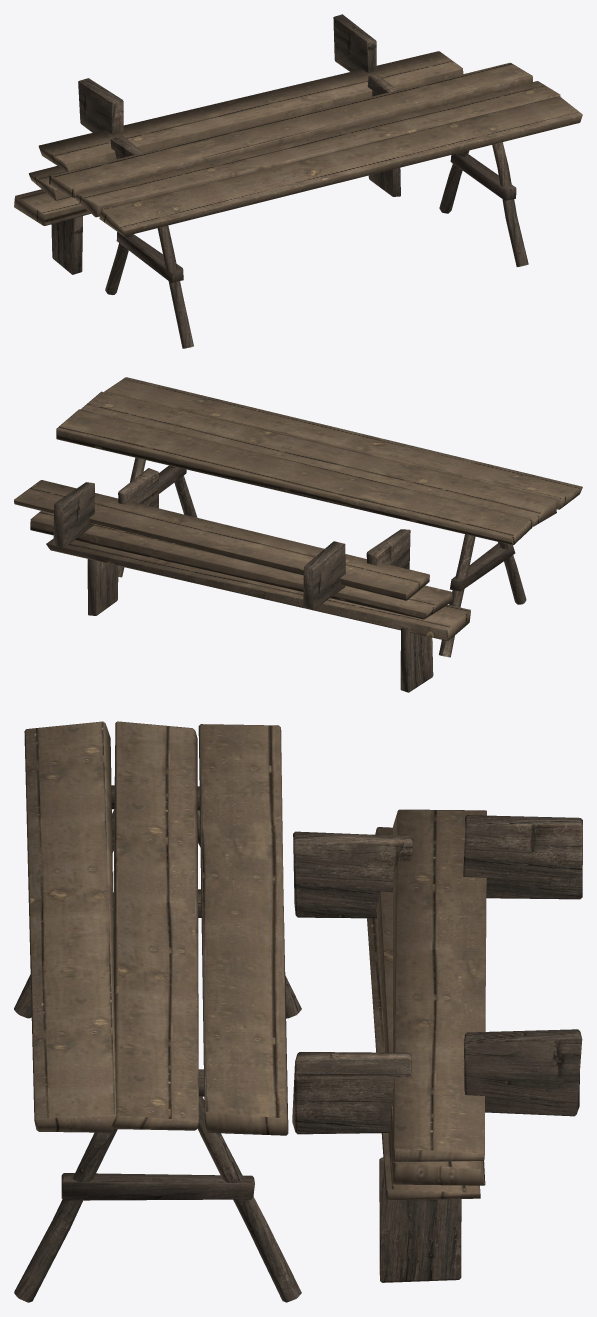
File: th_trestles.glb
3 renders of one model, top to bottom at view 1: azimuth 30°, elevation 25°; view 2: azimuth 150°, elevation 25°; view 3: azimuth 270°, elevation 25°, orthographic. The views are drawn at different scales.
Parts seen in each view (by area): view 1: th_trestles; view 2: th_trestles; view 3: th_trestles.
Part boxes in pixels (x1,y1,x2,y2): th_trestles: [14, 14, 582, 348]; th_trestles: [14, 377, 582, 692]; th_trestles: [14, 721, 582, 1302].
Size of the model in its own units: 2.93 by 0.8504 by 1.78.
1 material, 1 textured.
